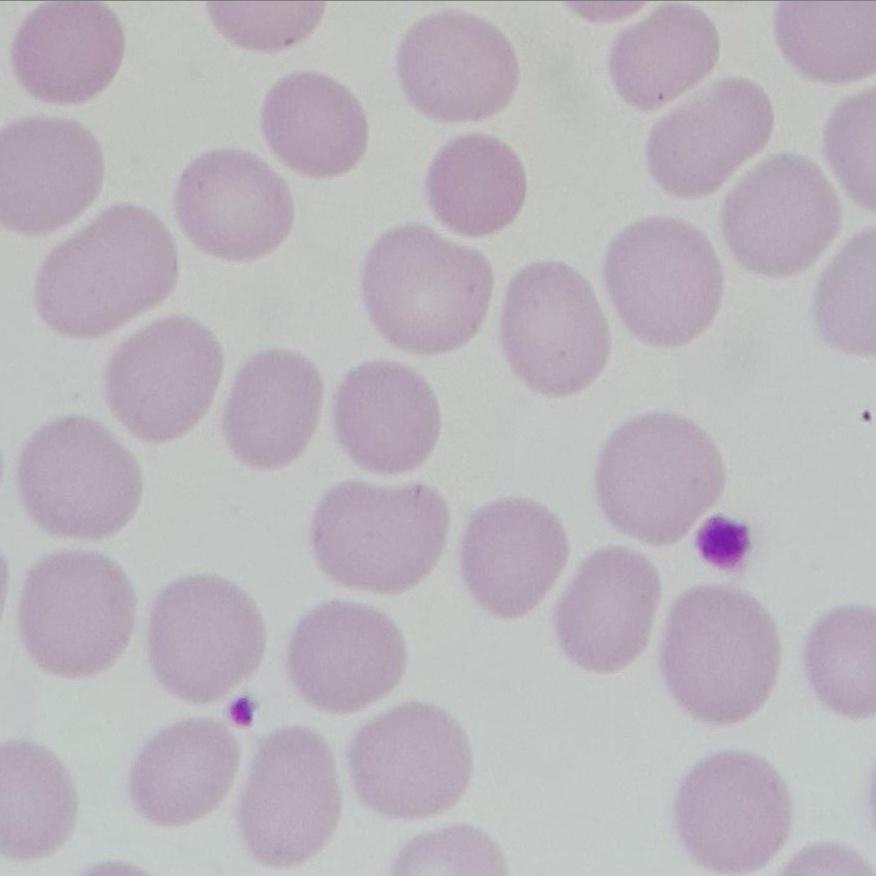Uninfected: (35, 206, 179, 339), (359, 224, 491, 352), (598, 414, 724, 545), (659, 585, 778, 722), (17, 415, 144, 543), (102, 317, 226, 446), (601, 217, 722, 348), (310, 478, 445, 595), (18, 550, 138, 681), (496, 260, 610, 394), (645, 78, 771, 197), (236, 729, 343, 868), (348, 701, 470, 819), (152, 575, 264, 701), (674, 751, 789, 872), (722, 156, 835, 277), (173, 148, 294, 260), (285, 602, 404, 715), (395, 13, 519, 121), (553, 549, 661, 673), (458, 500, 568, 619), (333, 361, 446, 476), (223, 349, 328, 469), (0, 120, 106, 236), (7, 2, 125, 104), (131, 718, 239, 829), (259, 74, 371, 177), (611, 6, 721, 107), (426, 136, 527, 237), (778, 2, 875, 84), (803, 607, 874, 718)
